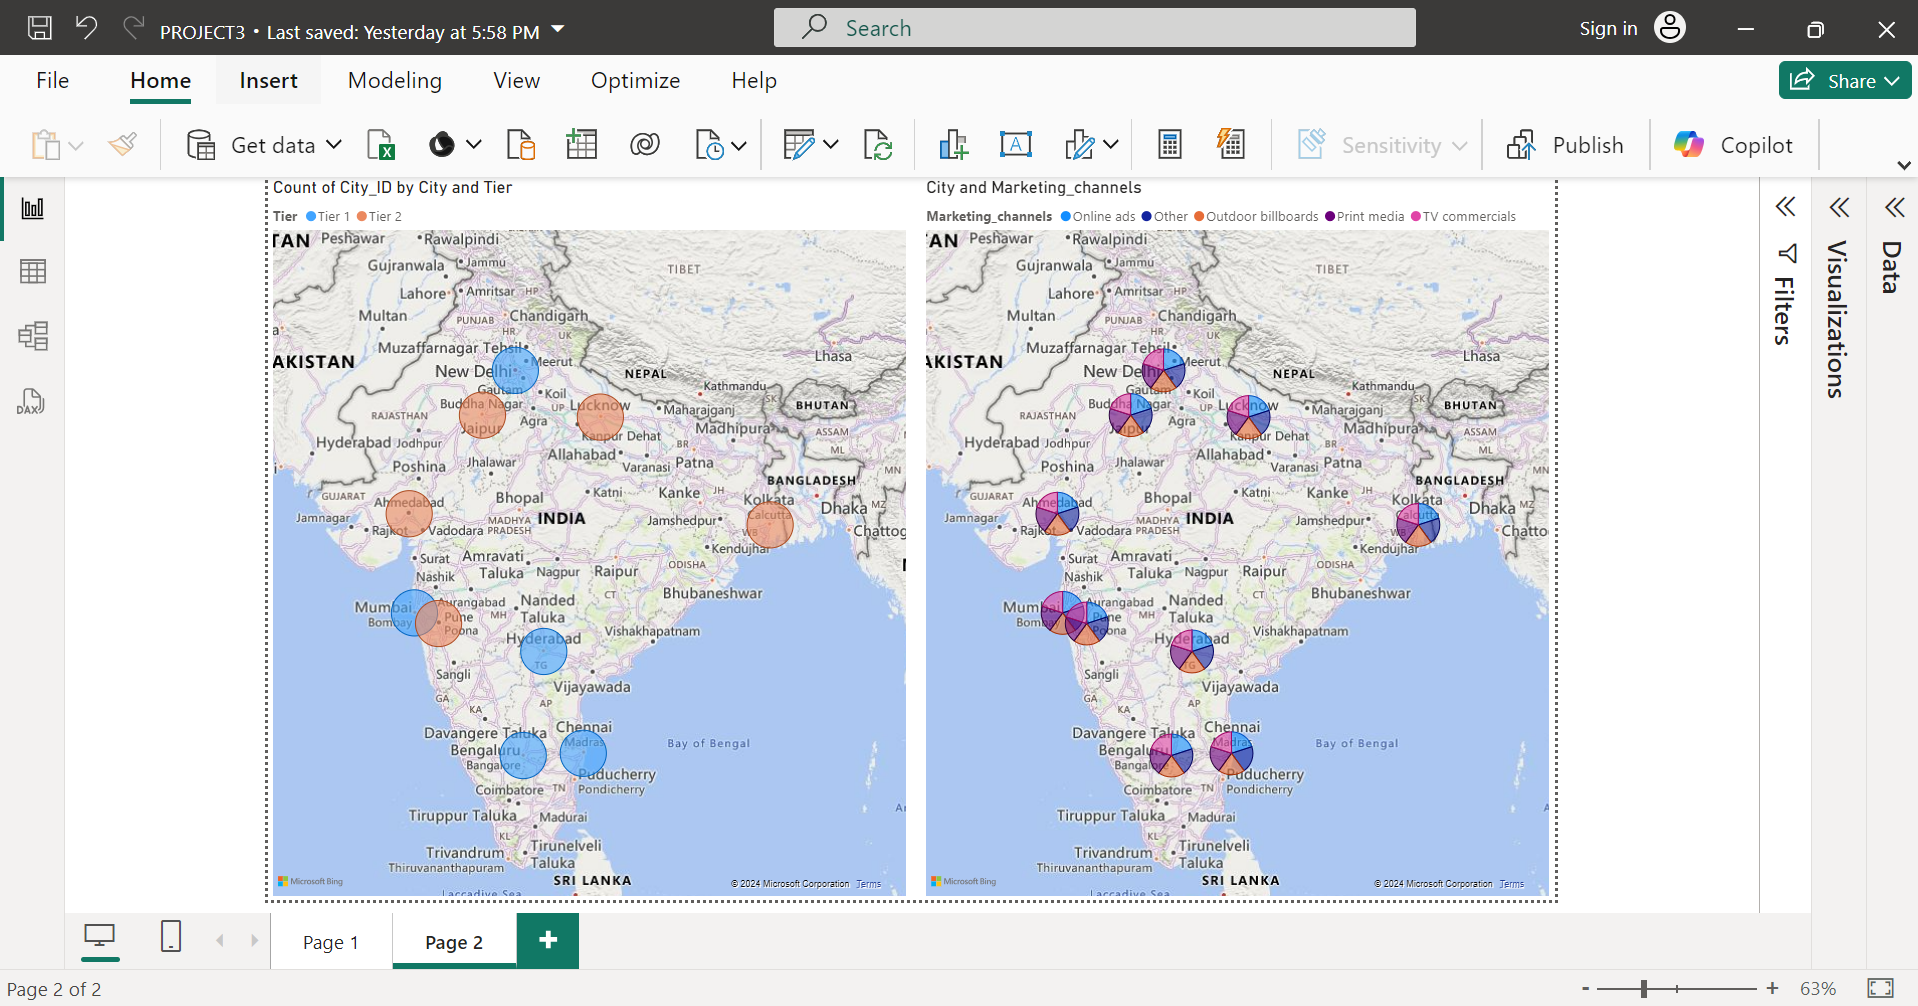

This screenshot's page, from the dashboard's own definition file:
{"tool":"powerbi","page":{"name":"Page 2","canvas":[1280,720],"ordinal":1},"visuals":[{"type":"map","fields":{"Size":["CountNonNull(Worksheet (4).City_ID)"],"Category":["Worksheet (4).City"],"Series":["Worksheet (4).Tier"]},"box":[0,0,640,720],"z":0},{"type":"map","fields":{"Category":["Worksheet (4).City"],"Series":["Worksheet (3).Marketing_channels"]},"box":[650,0,630,720],"z":1000}]}

Visuals, with their boxes on the page's 1280x720 design canvas (x1, y1, x2, y2). These are canvas units, not pixel positions in the 1918x1006 screenshot, which may show the page scaled, cropped or inside an application window:
map - CountNonNull(Worksheet (4).City_ID) x Worksheet (4).City: <bbox>0, 0, 640, 720</bbox>
map - Worksheet (4).City x Worksheet (3).Marketing_channels: <bbox>650, 0, 1280, 720</bbox>
